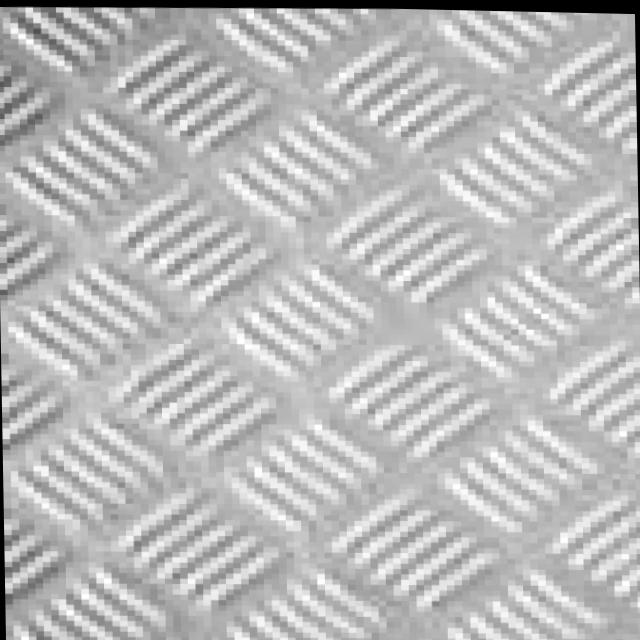metal-plates: (230, 263, 474, 460)
